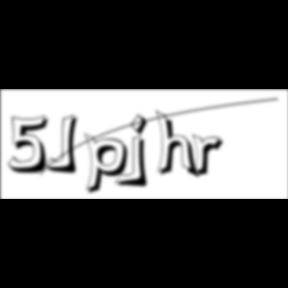5: (8, 114, 55, 176)
J: (46, 114, 84, 176)
h: (156, 108, 202, 182)
j: (128, 113, 154, 191)
p: (85, 132, 135, 198)
r: (192, 134, 230, 180)
